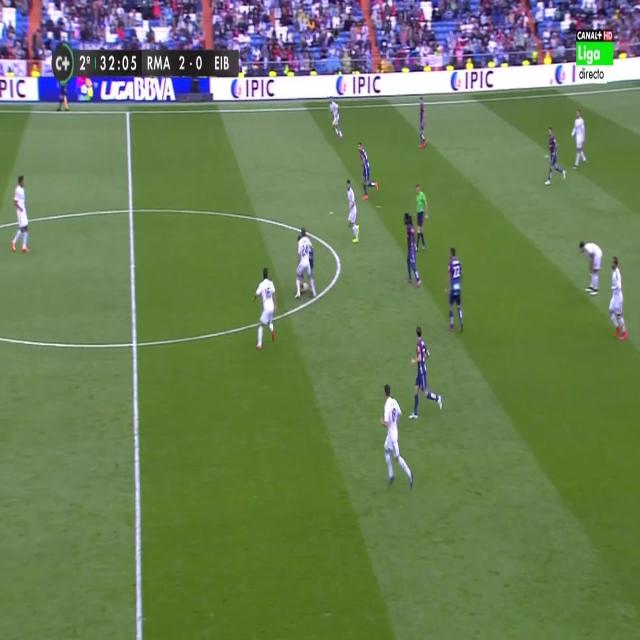Ball: (301, 279, 309, 294)
Player: (380, 382, 418, 496), (406, 326, 444, 421), (605, 251, 631, 344), (252, 266, 278, 351), (444, 246, 467, 335), (9, 170, 31, 256), (542, 125, 568, 197), (354, 139, 381, 204), (575, 238, 604, 298), (295, 225, 317, 304), (401, 209, 421, 290), (345, 176, 362, 247), (572, 103, 588, 172), (327, 95, 344, 143), (416, 94, 429, 148)
Referee: (412, 179, 430, 256)
